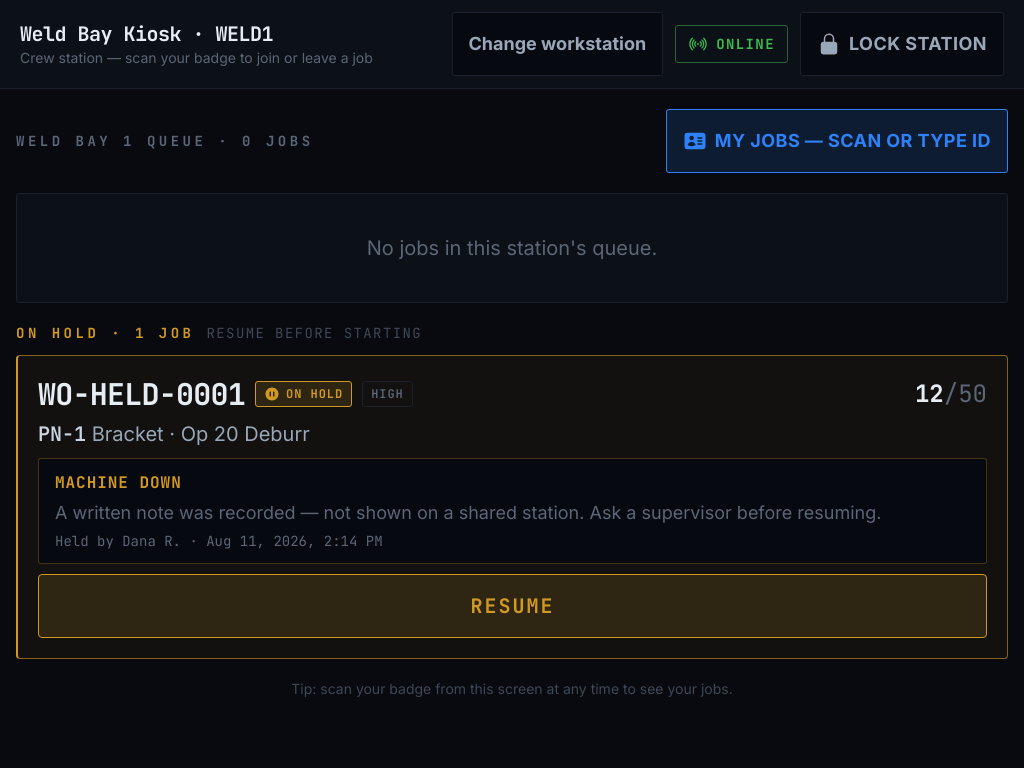
Test case: CrewStationKiosk — held operations › confirms, then requires a badge signature before resuming
The image size is (1024, 768).
What coordinates should you click on to do the following:
click the button with test id "kiosk-held-resume"
I would click on:
 (512, 606)
Its box is [38, 574, 987, 638].
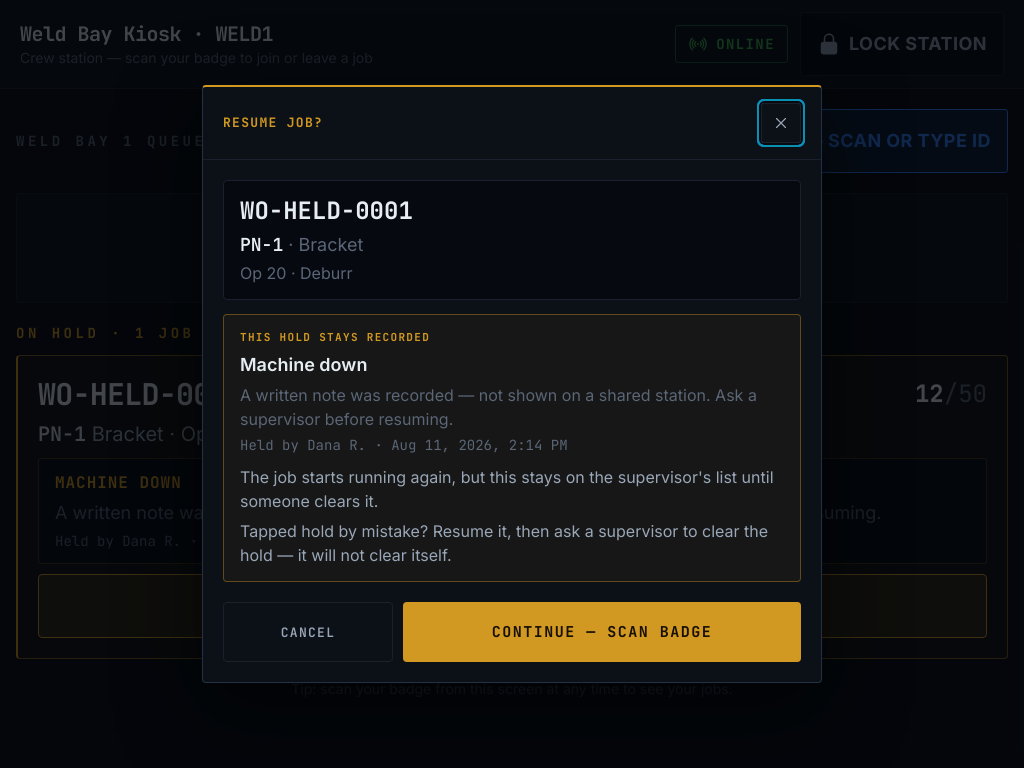
Expected: the text with test id "kiosk-resume-wo" reads "WO-HELD-0001", [240, 195, 413, 226]
Expected: the element with test id "kiosk-resume-blocker-warning" shows "stays recorded", [240, 330, 430, 344]
What coordinates should you click on to do the following:
click the button with test id "kiosk-resume-confirm"
I would click on:
 (602, 632)
Its box is [403, 602, 801, 662].
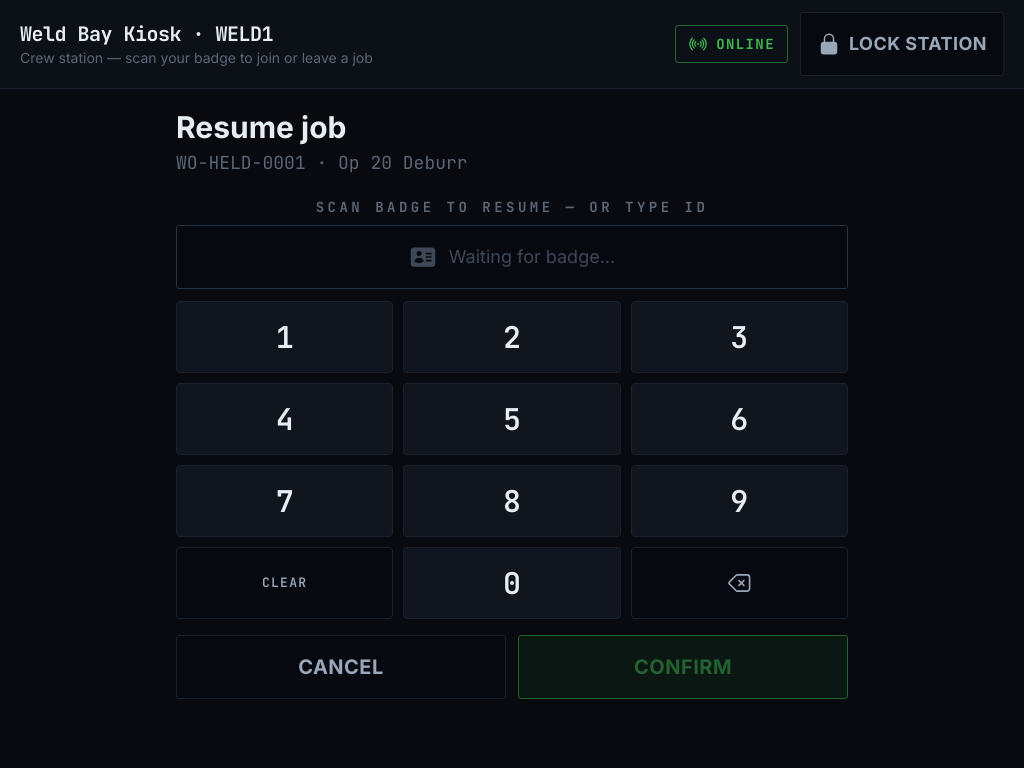
Expected: the text "Scan badge to resume — or type ID" is shown, [316, 198, 708, 216]
